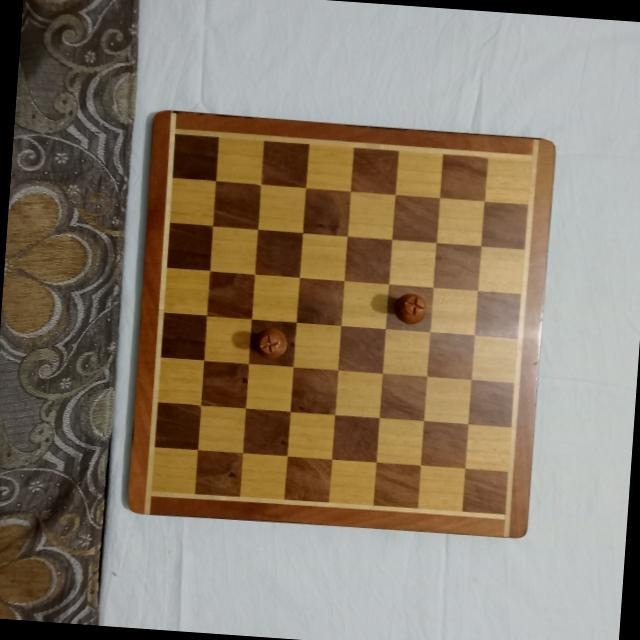white-rook: (252, 324, 290, 358), (392, 290, 428, 325)
